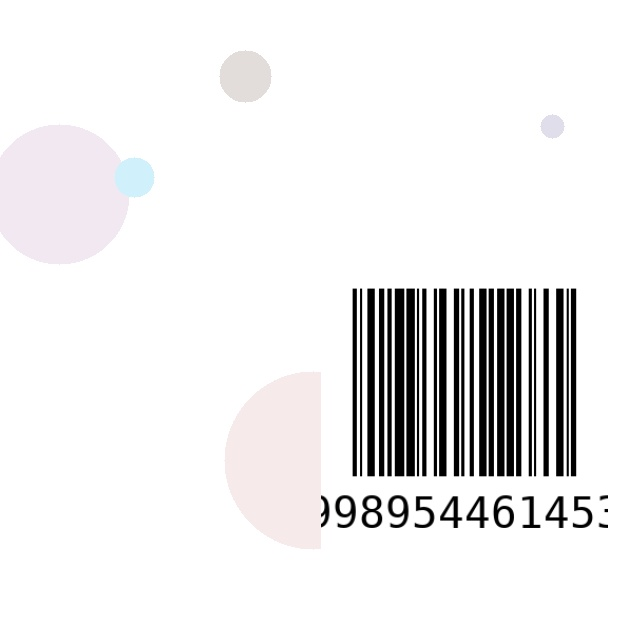barcode: (321, 277, 608, 572)
